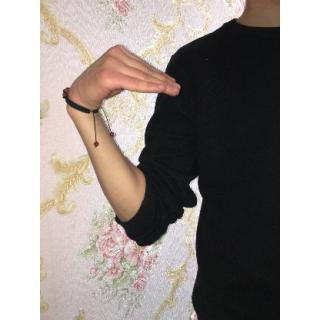HAA: (67, 44, 189, 112)
